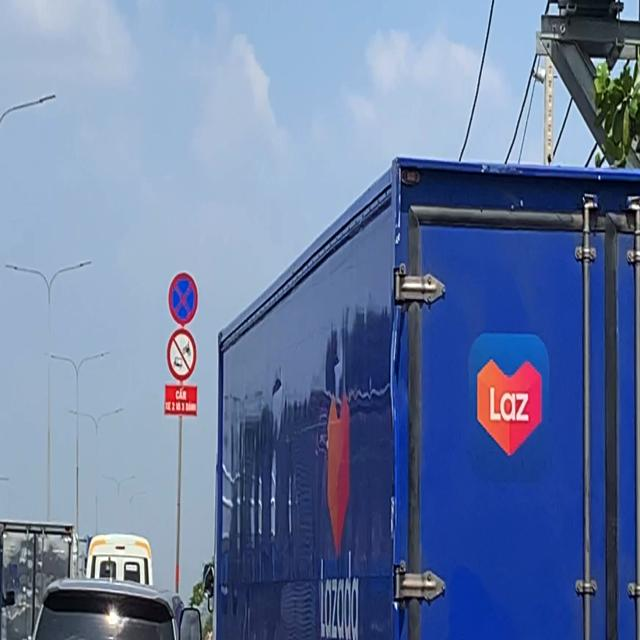Cam dung va do: (166, 268, 199, 328)
